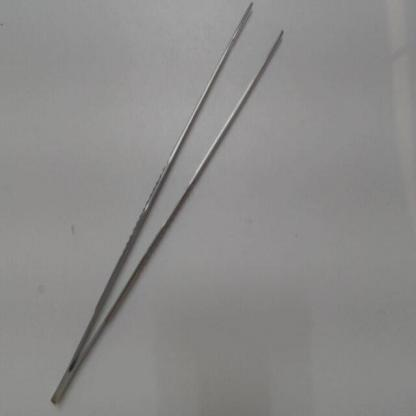DeBakey Dissector: (44, 0, 304, 413)
